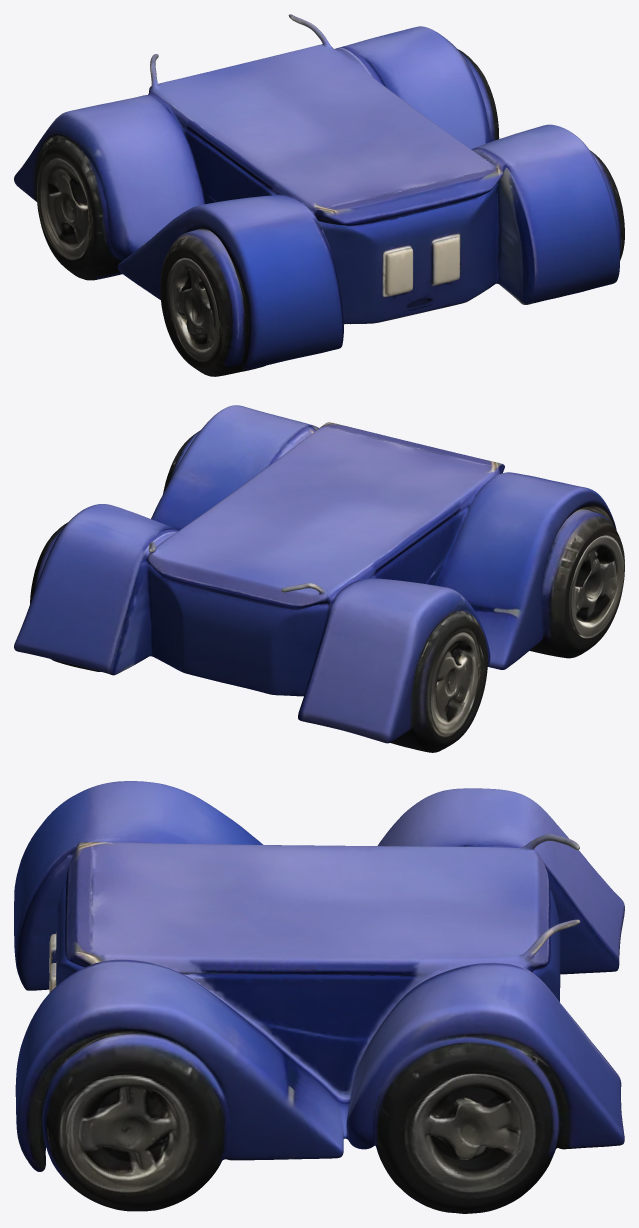
File: humblebeev2-lite.glb
3 views of the same model, one above another, from view 1: azimuth 30°, elevation 25°; view 2: azimuth 150°, elevation 25°; view 3: azimuth 270°, elevation 25° (orthographic). The views are drawn at different scales.
Visible parts, largest first — view 1: tripo_node_919681a1-7faa-43d3-8fe7-d3658ae15f43; view 2: tripo_node_919681a1-7faa-43d3-8fe7-d3658ae15f43; view 3: tripo_node_919681a1-7faa-43d3-8fe7-d3658ae15f43.
Part boxes in pixels (bbox=[...]): tripo_node_919681a1-7faa-43d3-8fe7-d3658ae15f43: bbox=[14, 14, 624, 376]; tripo_node_919681a1-7faa-43d3-8fe7-d3658ae15f43: bbox=[14, 405, 624, 752]; tripo_node_919681a1-7faa-43d3-8fe7-d3658ae15f43: bbox=[14, 781, 624, 1213].
Size of the model in its own units: 0.9927 by 0.3946 by 1.
1 material, 1 textured.
